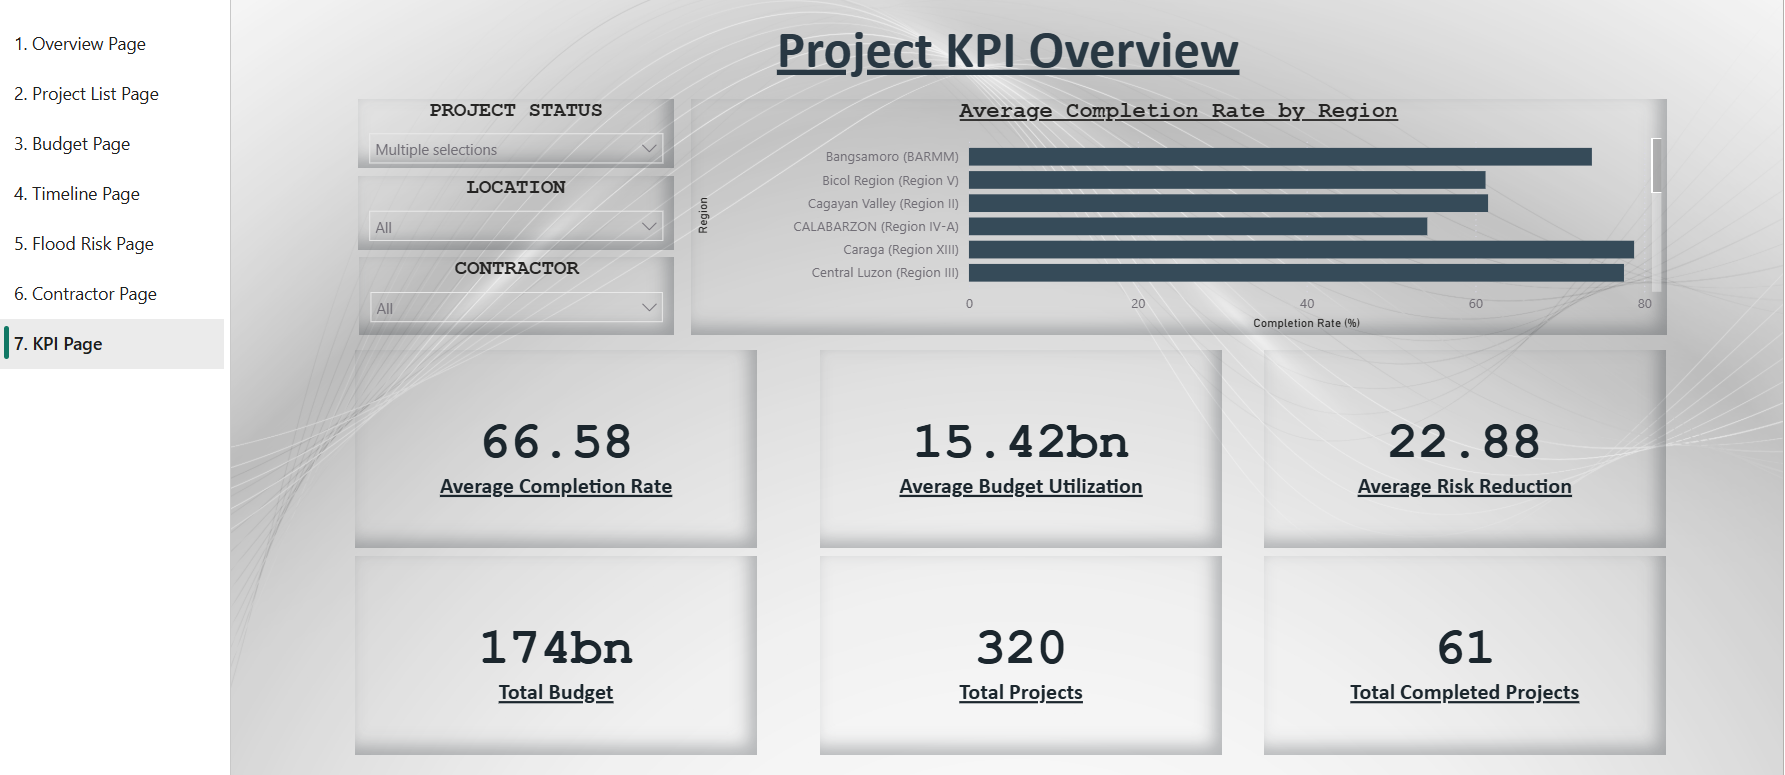

What the dashboard file says about the page in this screenshot:
{"tool":"powerbi","page":{"name":"7. KPI Page","canvas":[1280,700],"ordinal":6},"visuals":[{"type":"textbox","box":[52.5,9.7,1175,70],"z":0},{"type":"card","fields":{"Values":["KPI_Summary.sumtotal projects"]},"box":[470.8,502.5,363.2,179],"z":1000},{"type":"card","fields":{"Values":["Budget_Allocation.Total Allocated Budget"]},"box":[51.1,502.5,363.2,179],"z":2000},{"type":"card","fields":{"Values":["Avg(KPI_Summary.Avg_%_Completion)"]},"box":[51.1,315.6,363.2,179],"z":4000},{"type":"card","fields":{"Values":["Avg(KPI_Summary.utilized_budget_amt (PHP))"]},"box":[470.8,315.6,363.2,179],"z":5000},{"type":"card","fields":{"Values":["Avg(KPI_Summary.Avg_Risk_Reduction (%))"]},"box":[871.9,315.6,363.2,179],"z":6000},{"type":"card","fields":{"Values":["Sum(KPI_Summary.No._of_Completed_Projects)"]},"box":[871.9,502.5,363.2,179],"z":9001},{"type":"slicer","title":"CONTRACTOR","fields":{"Values":["Contractor_Info.Contractor_Name"]},"box":[53.8,232.7,284.8,69.6],"z":9003},{"type":"slicer","title":"LOCATION","fields":{"Values":["KPI_Summary.Region"]},"box":[52.9,158.7,285.6,66.1],"z":9004},{"type":"slicer","title":"PROJECT STATUS","fields":{"Values":["Project_List.Project_Status"]},"box":[52.9,89,285.6,62.6],"z":9005},{"type":"clusteredBarChart","title":"Average Completion Rate by Region","fields":{"Category":["KPI_Summary.Region"],"Y":["Avg(KPI_Summary.Avg_%_Completion)"]},"box":[354.4,89,880.7,213.4],"z":9006}]}

Visuals, with their boxes on the page's 1280x700 design canvas (x1, y1, x2, y2). These are canvas units, not pixel positions in the 1785x775 screenshot, which may show the page scaled, cropped or inside an application window:
textbox: x1=52, y1=10, x2=1228, y2=80
card - KPI_Summary.sumtotal projects: x1=471, y1=502, x2=834, y2=682
card - Budget_Allocation.Total Allocated Budget: x1=51, y1=502, x2=414, y2=682
card - Avg(KPI_Summary.Avg_%_Completion): x1=51, y1=316, x2=414, y2=495
card - Avg(KPI_Summary.utilized_budget_amt (PHP)): x1=471, y1=316, x2=834, y2=495
card - Avg(KPI_Summary.Avg_Risk_Reduction (%)): x1=872, y1=316, x2=1235, y2=495
card - Sum(KPI_Summary.No._of_Completed_Projects): x1=872, y1=502, x2=1235, y2=682
"CONTRACTOR" slicer: x1=54, y1=233, x2=339, y2=302
"LOCATION" slicer: x1=53, y1=159, x2=338, y2=225
"PROJECT STATUS" slicer: x1=53, y1=89, x2=338, y2=152
"Average Completion Rate by Region" clusteredBarChart: x1=354, y1=89, x2=1235, y2=302
